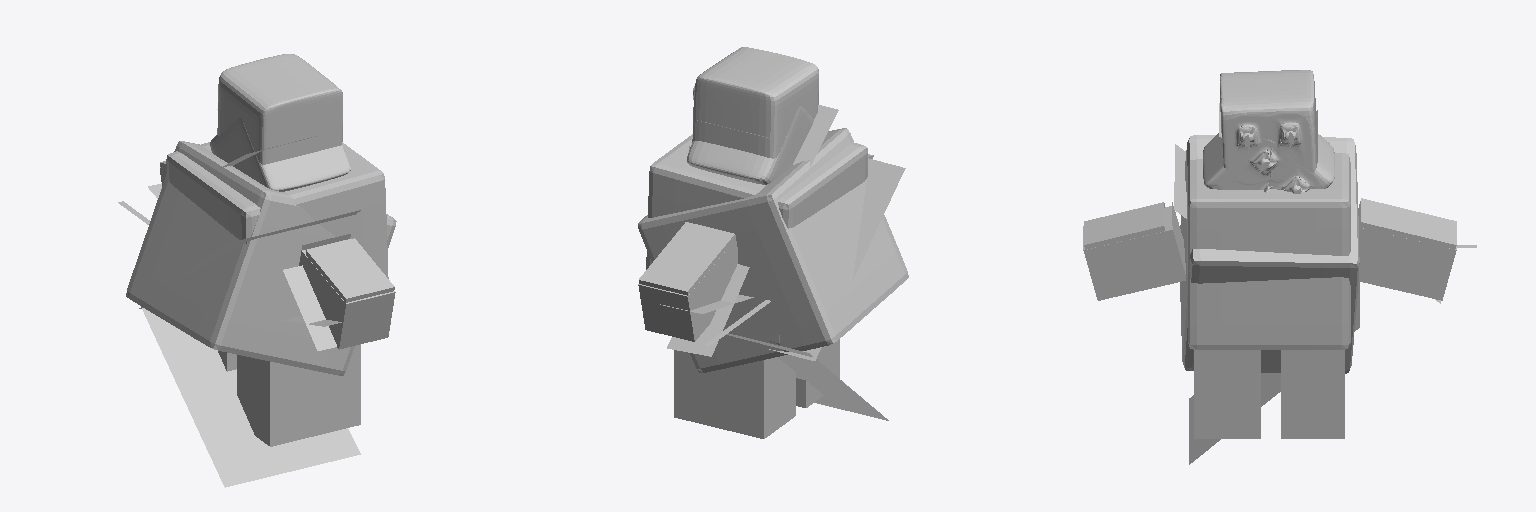
3 renders of one model, left to right at view 1: azimuth 30°, elevation 25°; view 2: azimuth 150°, elevation 25°; view 3: azimuth 270°, elevation 25°, orthographic.
Parts seen in each view (by area): view 1: Cube_Cube.001, RectT2_Plane.001, CollisionH_Cube.008, CollisionT_Cube.006, CollisionLL_Cube.003, Cube.001_Cube.002, Cube.005_Cube.007, CollisionLA_Cube.013, RectLA1_Plane.003, Cube.006_Cube.009, RectT1_Plane; view 2: Cube_Cube.001, CollisionH_Cube.008, CollisionT_Cube.006, Cube.003_Cube.004, Cube.004_Cube.005, CollisionRA_Cube.011, Cube.001_Cube.002, RectT1_Plane, RectT2_Plane.001, RectRA1_Plane.004, RectH1_Plane.006, Cube.006_Cube.009; view 3: CollisionT_Cube.006, CollisionH_Cube.008, Cube_Cube.001, Cube.003_Cube.004, Cube.005_Cube.007, Cube.004_Cube.005, Cube.001_Cube.002, Cube.006_Cube.009, CollisionRA_Cube.011, CollisionLA_Cube.013, CollisionLL_Cube.003, RectT2_Plane.001 (+1 smaller).
Boxes of the visible parts, box(x1,y1,x2,y2) form: Cube_Cube.001: box(126, 141, 396, 375); RectT2_Plane.001: box(142, 308, 360, 487); CollisionH_Cube.008: box(217, 54, 342, 164); CollisionT_Cube.006: box(166, 142, 388, 278); CollisionLL_Cube.003: box(249, 344, 360, 446); Cube.001_Cube.002: box(210, 118, 350, 191); Cube.005_Cube.007: box(299, 239, 395, 349); CollisionLA_Cube.013: box(299, 234, 394, 302); RectLA1_Plane.003: box(283, 265, 336, 350); Cube.006_Cube.009: box(237, 355, 268, 445); RectT1_Plane: box(139, 210, 360, 308); Cube_Cube.001: box(638, 128, 908, 372); CollisionH_Cube.008: box(692, 47, 818, 158); CollisionT_Cube.006: box(646, 134, 867, 344); Cube.003_Cube.004: box(674, 350, 795, 438); Cube.004_Cube.005: box(638, 239, 737, 341); CollisionRA_Cube.011: box(639, 222, 737, 295); Cube.001_Cube.002: box(687, 106, 826, 184); RectT1_Plane: box(769, 158, 905, 360); RectT2_Plane.001: box(726, 333, 888, 420); RectRA1_Plane.004: box(667, 264, 749, 356); RectH1_Plane.006: box(793, 105, 838, 166); Cube.006_Cube.009: box(796, 346, 836, 407); CollisionT_Cube.006: box(1187, 153, 1350, 349); CollisionH_Cube.008: box(1220, 70, 1317, 184); Cube_Cube.001: box(1180, 135, 1359, 373); Cube.003_Cube.004: box(1281, 350, 1344, 438); Cube.005_Cube.007: box(1083, 206, 1185, 300); Cube.004_Cube.005: box(1359, 228, 1456, 300); Cube.001_Cube.002: box(1203, 133, 1334, 193); Cube.006_Cube.009: box(1196, 350, 1260, 438); CollisionRA_Cube.011: box(1358, 198, 1456, 249); CollisionLA_Cube.013: box(1084, 202, 1185, 269); CollisionLL_Cube.003: box(1194, 350, 1257, 438); RectT2_Plane.001: box(1189, 281, 1359, 464).
Bounding box in the file's own units: 1.93 × 3.39 × 3.36.